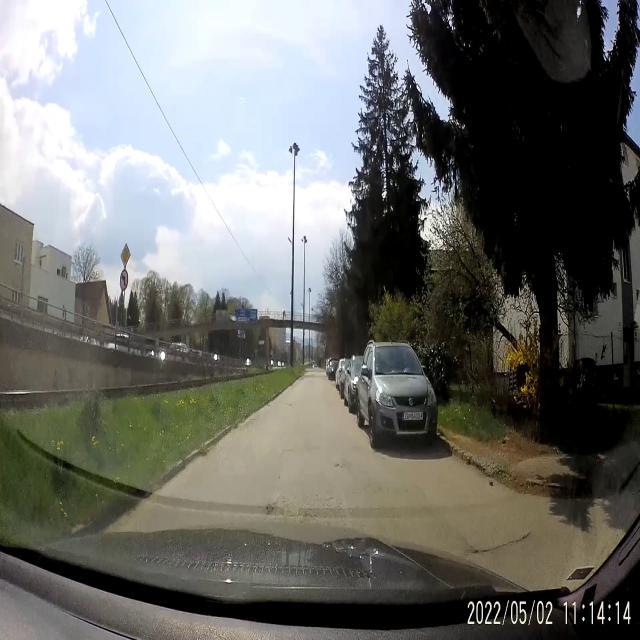Pothole: (262, 494, 290, 520), (506, 531, 534, 554), (468, 540, 491, 560)
